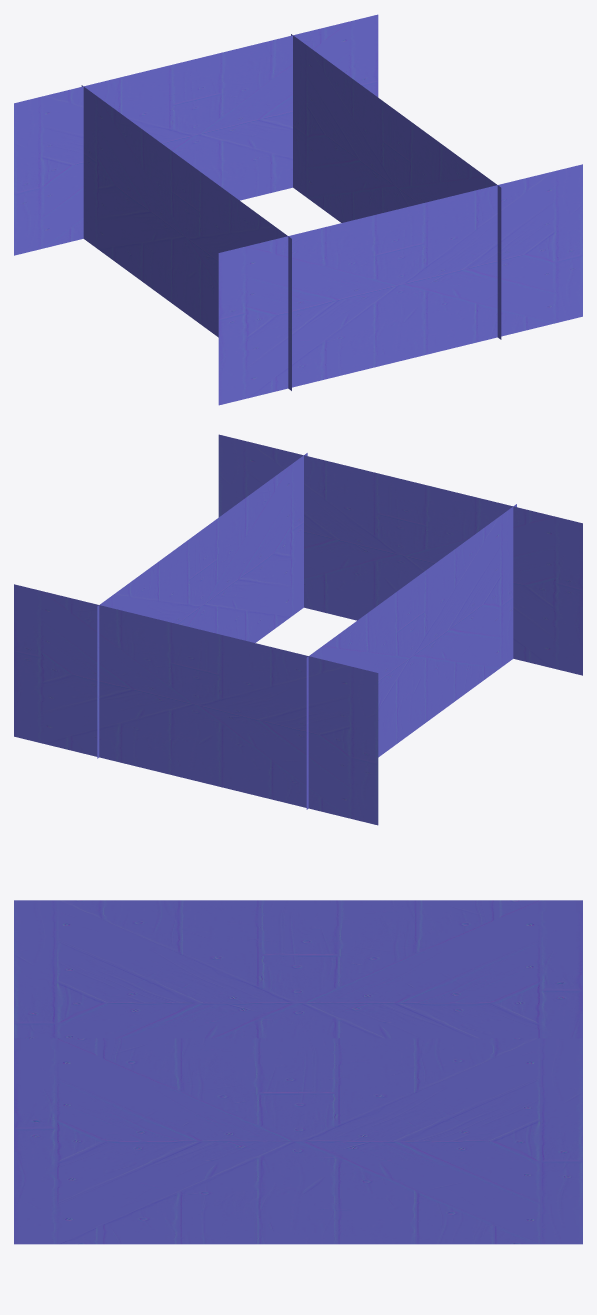
The model's file is WallTemplate.fbx.
The picture shows the model from 3 angles, top to bottom: view 1: azimuth 30°, elevation 25°; view 2: azimuth 150°, elevation 25°; view 3: azimuth 270°, elevation 25°; orthographic projection. The views are drawn at different scales.
Visible parts, largest first — view 1: Plane__4_, Plane__3_, Plane__1_, Plane__2_; view 2: Plane__3_, Plane__4_, Plane__1_, Plane__2_; view 3: Plane__2_, Plane__1_.
Part boxes in pixels (x1,y1,x2,y2): Plane__4_: (218, 164, 582, 405); Plane__3_: (14, 14, 378, 255); Plane__1_: (81, 85, 291, 390); Plane__2_: (291, 34, 501, 339); Plane__3_: (14, 584, 378, 825); Plane__4_: (218, 434, 582, 675); Plane__1_: (306, 504, 516, 809); Plane__2_: (97, 453, 307, 758); Plane__2_: (14, 1038, 582, 1244); Plane__1_: (14, 900, 582, 1038).
Size of the model in its own units: 2031 by 812 by 2031.
